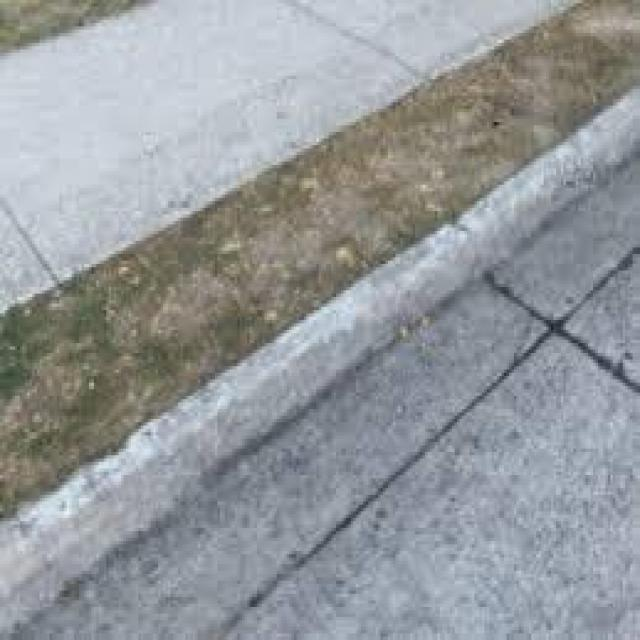curb: (1, 419, 177, 628), (197, 286, 344, 470), (366, 184, 549, 318), (533, 76, 640, 220)
